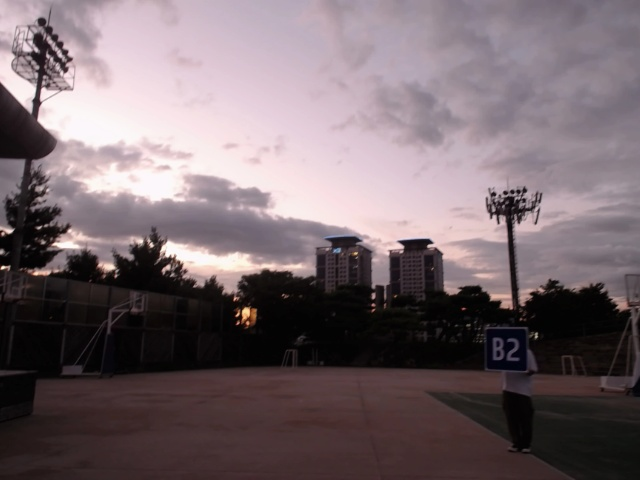delivery_b2: (484, 325, 529, 373)
